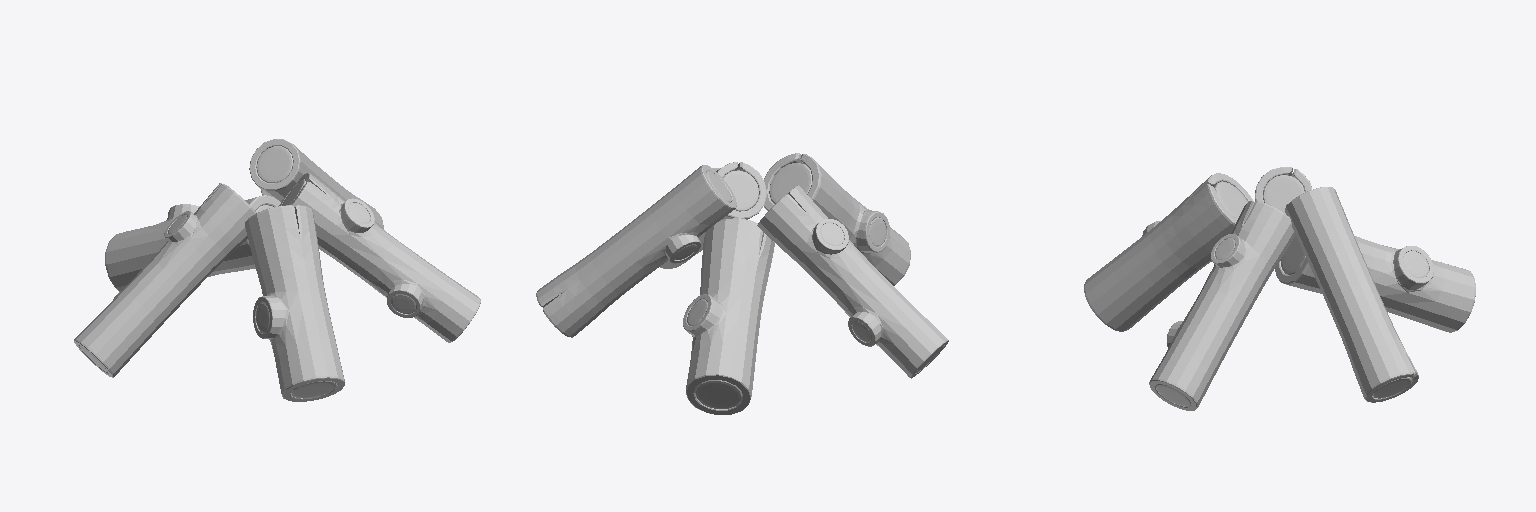
File: fp_wood.obj
The picture shows the model from 3 angles: view 1: azimuth 30°, elevation 25°; view 2: azimuth 150°, elevation 25°; view 3: azimuth 270°, elevation 25°; orthographic projection.
Parts seen in each view (by area): view 1: wood; view 2: wood; view 3: wood.
Boxes of the visible parts, <box> form: wood: <box>74,139,480,401</box>; wood: <box>536,153,948,414</box>; wood: <box>1084,167,1475,410</box>.
Bounding box in the file's own units: 21.31 × 10.53 × 20.58.